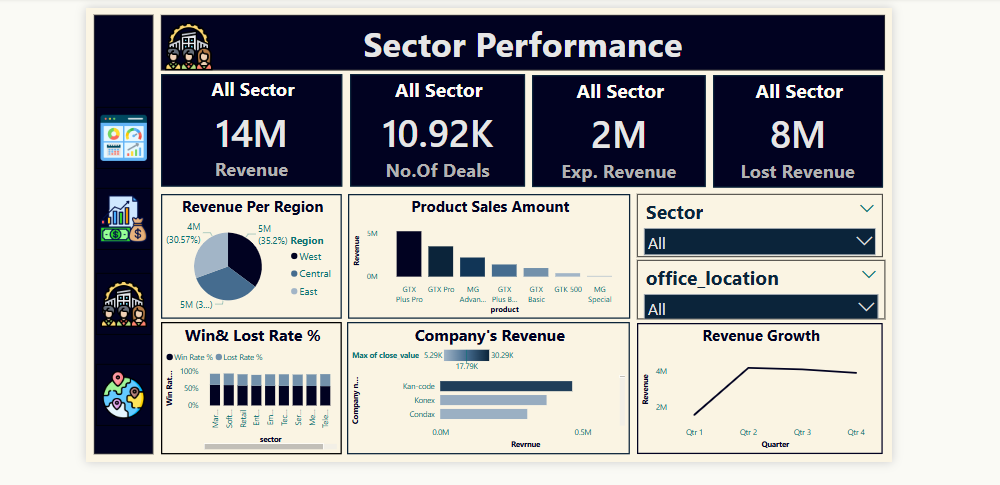

Layout of this report page (visuals, bound fields, positions):
{"tool":"powerbi","page":{"name":"Sector Performance","canvas":[1280,720],"ordinal":2},"visuals":[{"type":"shape","box":[12.3,10.8,93.8,696.9],"z":0},{"type":"image","box":[15.4,156.9,87.7,98.5],"z":1000},{"type":"image","box":[15.4,564.6,87.7,98.5],"z":2000},{"type":"image","box":[15.4,420,87.7,98.5],"z":3000},{"type":"image","box":[15.4,286.2,87.7,98.5],"z":4000},{"type":"shape","title":"dddd","box":[118.5,10.8,1149.2,87.7],"z":5000},{"type":"image","box":[119.1,11.3,87.9,99.2],"z":6000},{"type":"columnChart","title":"Win& Lost Rate % ","fields":{"Category":["sales_pipeline.sector"],"Y":["sales_pipeline.Win Rate %","sales_pipeline.Lost Rate %"]},"box":[119,498.4,287.3,209.5],"z":7000},{"type":"card","fields":{"Values":["Sum(sales_pipeline.close_value)"]},"box":[119,104.8,288,179.4],"z":8000},{"type":"slicer","fields":{"Values":["sales_pipeline.sector"]},"box":[874.6,295.2,390.5,100],"z":9000},{"type":"card","fields":{"Values":["CountNonNull(sales_pipeline.opportunity_id)"]},"box":[419,104.8,277.8,179.4],"z":10000},{"type":"card","fields":{"Values":["sales_pipeline.Expected Revenue"]},"box":[707.9,106.3,276.2,177.8],"z":11000},{"type":"card","fields":{"Values":["sales_pipeline.Lost Revenue"]},"box":[995.2,106.3,269.8,179.4],"z":12000},{"type":"barChart","title":"Company''s Revenue","fields":{"Category":["sales_pipeline.Company name"],"Y":["Sum(sales_pipeline.close_value)"]},"box":[414.3,498.4,449.2,209.5],"z":13000},{"type":"pieChart","title":"Revenue Per Region","fields":{"Category":["sales_pipeline.regional_office"],"Y":["Sum(sales_pipeline.close_value)"]},"box":[119,295.2,287.3,198.4],"z":14000},{"type":"columnChart","title":"Product Sales Amount","fields":{"Category":["sales_pipeline.product"],"Y":["Sum(sales_pipeline.close_value)"]},"box":[415.9,295.2,447.6,198.4],"z":15000},{"type":"lineChart","title":"Revenue Growth","fields":{"Category":["sales_pipeline.close_date.Variation.Date Hierarchy.Quarter","sales_pipeline.close_date.Variation.Date Hierarchy.Month"],"Y":["Sum(sales_pipeline.close_value)"]},"box":[874.6,500,390.5,207.9],"z":16000},{"type":"slicer","fields":{"Values":["accounts.office_location"]},"box":[874.6,400,393.7,93.7],"z":17000}]}

Visuals, with their boxes in screenshot pixels (x1, y1, x2, y2):
shape: box(91, 10, 151, 455)
image: box(93, 103, 149, 166)
image: box(93, 364, 149, 427)
image: box(93, 271, 149, 334)
image: box(93, 186, 149, 249)
"dddd" shape: box(159, 10, 895, 66)
image: box(160, 10, 216, 73)
"Win& Lost Rate % " columnChart: box(159, 322, 343, 456)
card - Sum(sales_pipeline.close_value): box(159, 70, 344, 184)
slicer - sales_pipeline.sector: box(643, 192, 893, 255)
card - CountNonNull(sales_pipeline.opportunity_id): box(351, 70, 529, 184)
card - sales_pipeline.Expected Revenue: box(536, 71, 713, 184)
card - sales_pipeline.Lost Revenue: box(720, 71, 893, 185)
"Company''s Revenue" barChart: box(348, 322, 636, 456)
"Revenue Per Region" pieChart: box(159, 192, 343, 318)
"Product Sales Amount" columnChart: box(349, 192, 636, 318)
"Revenue Growth" lineChart: box(643, 323, 893, 456)
slicer - accounts.office_location: box(643, 259, 895, 319)
